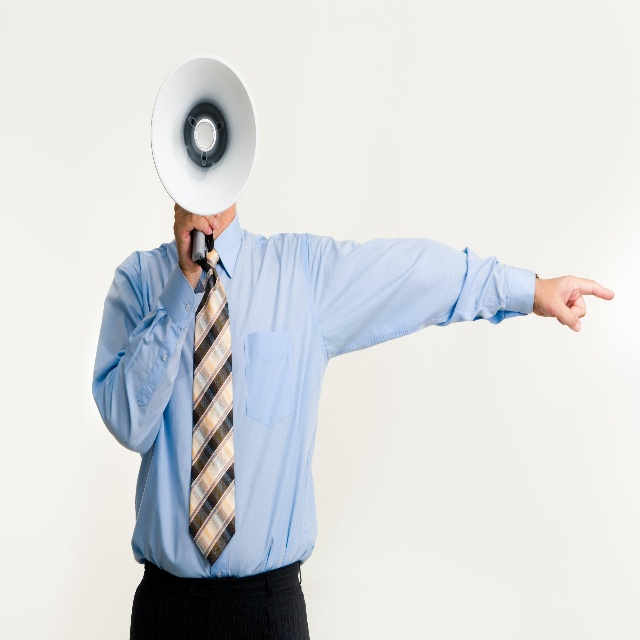Sin_guantes: (537, 271, 614, 333), (173, 204, 221, 269)
